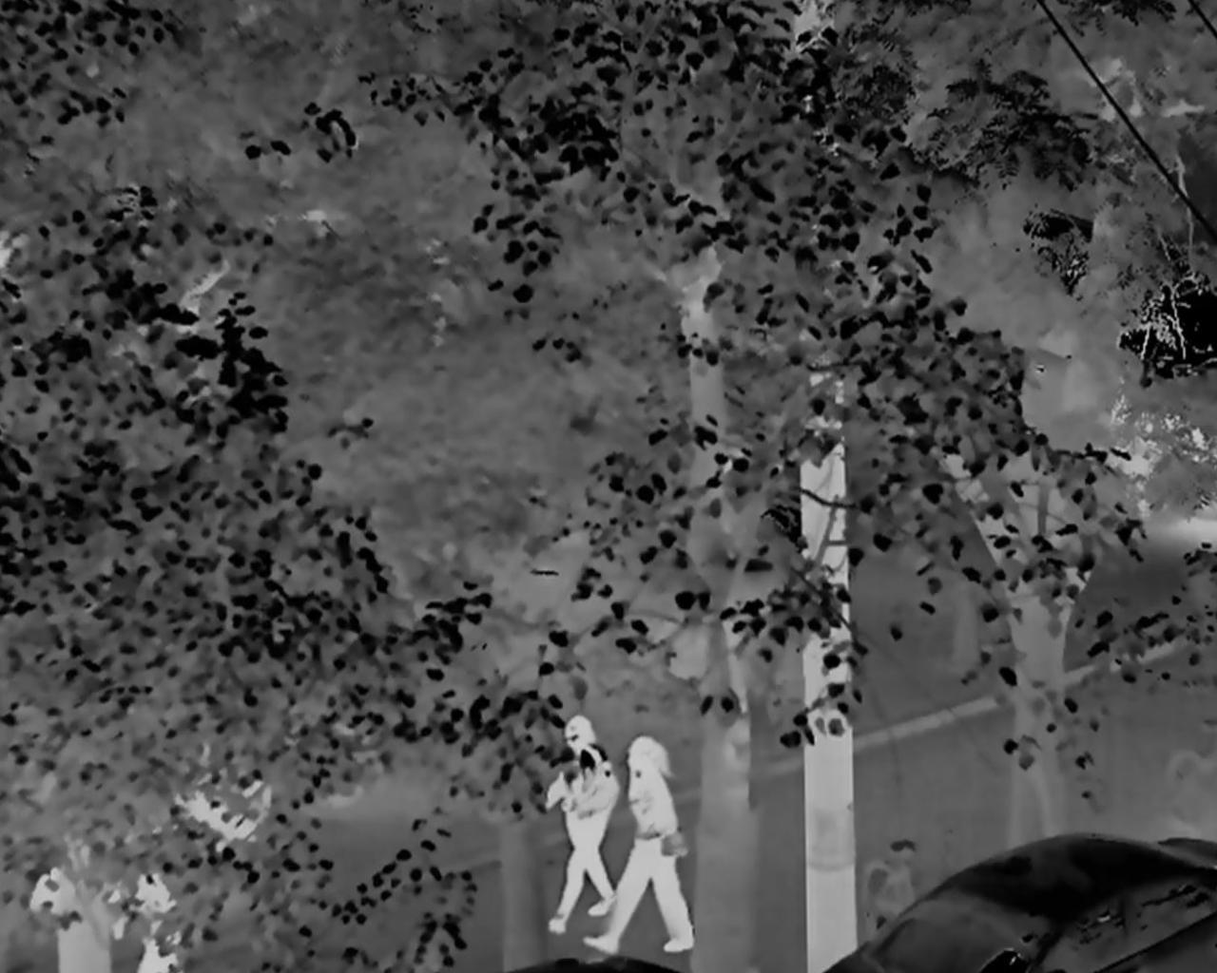person: (583, 735, 694, 956), (544, 717, 614, 937)
